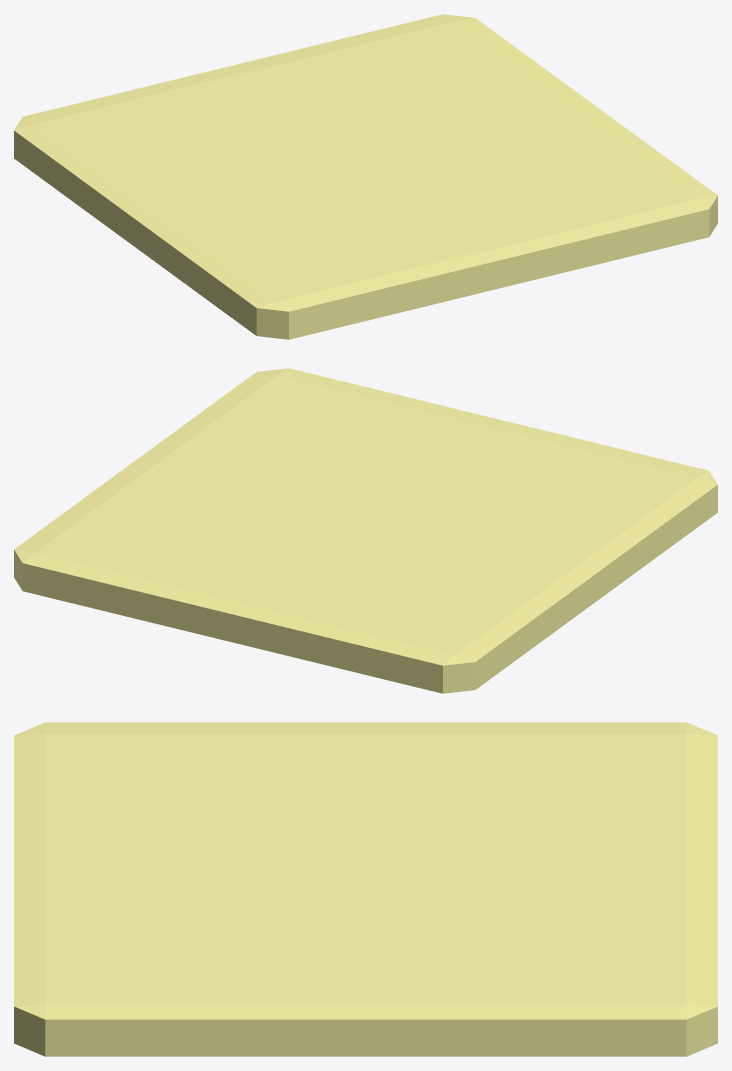
Rendered from 9_american cheese.fbx.
3 views of the same model, one above another, from view 1: azimuth 30°, elevation 25°; view 2: azimuth 150°, elevation 25°; view 3: azimuth 270°, elevation 25° (orthographic). The views are drawn at different scales.
Visible parts, largest first — view 1: amirican sheese; view 2: amirican sheese; view 3: amirican sheese.
Part boxes in pixels (<box>): amirican sheese: <box>14,14,717,339</box>; amirican sheese: <box>14,368,717,693</box>; amirican sheese: <box>14,722,717,1056</box>.
Bounding box in the file's own units: 135 × 8.62 × 135.
